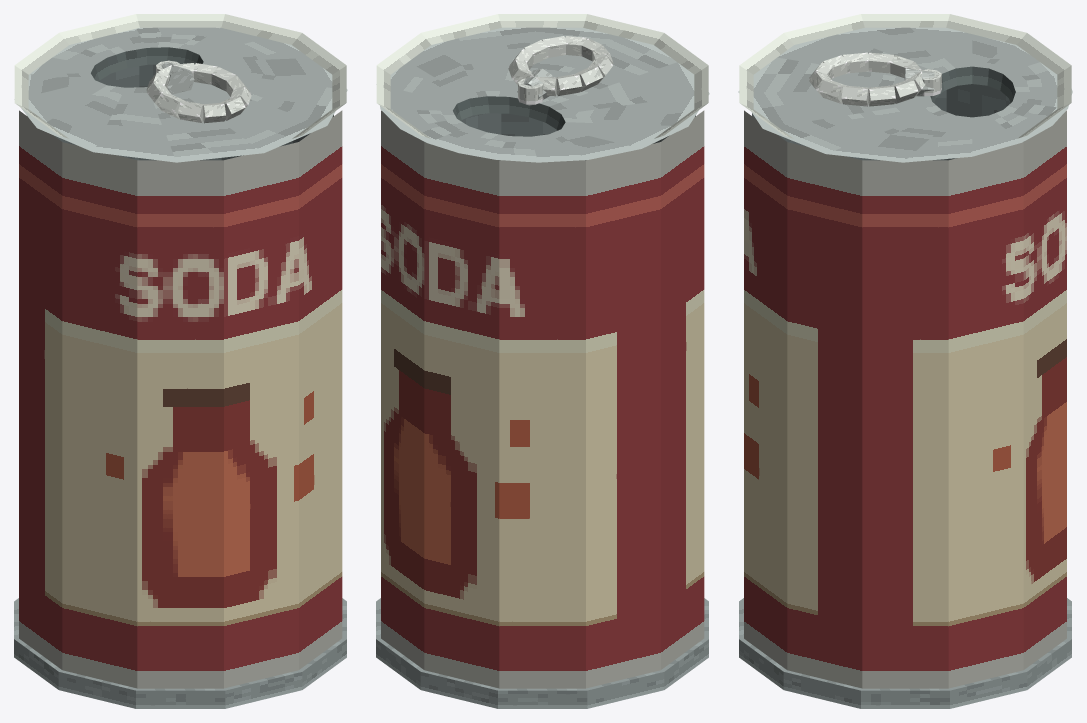
The model's file is can_drink.glb.
The picture shows the model from 3 angles, left to right: view 1: azimuth 30°, elevation 25°; view 2: azimuth 150°, elevation 25°; view 3: azimuth 270°, elevation 25°; orthographic projection.
Visible parts, largest first — view 1: block_illustrated wraparound can label, block_open drink lid with actual aperture, block_rolled steel base, block_rolled open rim, block_shadowed drinking aperture rim, block_uncovered empty can interior, block_pull tab hinge; view 2: block_illustrated wraparound can label, block_open drink lid with actual aperture, block_rolled steel base, block_rolled open rim, block_shadowed drinking aperture rim, block_uncovered empty can interior; view 3: block_illustrated wraparound can label, block_open drink lid with actual aperture, block_rolled steel base, block_rolled open rim, block_uncovered empty can interior, block_shadowed drinking aperture rim, block_raised metal pull ring 11, block_raised metal pull ring 0.
Boxes of the visible parts, bbox=[...] form: block_illustrated wraparound can label: bbox=[19, 110, 342, 688]; block_open drink lid with actual aperture: bbox=[14, 27, 347, 162]; block_rolled steel base: bbox=[14, 598, 346, 708]; block_rolled open rim: bbox=[14, 14, 346, 138]; block_shadowed drinking aperture rim: bbox=[91, 47, 203, 81]; block_uncovered empty can interior: bbox=[53, 64, 333, 160]; block_pull tab hinge: bbox=[161, 62, 194, 94]; block_illustrated wraparound can label: bbox=[381, 110, 704, 688]; block_open drink lid with actual aperture: bbox=[376, 27, 709, 162]; block_rolled steel base: bbox=[376, 598, 708, 708]; block_rolled open rim: bbox=[376, 14, 708, 138]; block_shadowed drinking aperture rim: bbox=[453, 96, 565, 130]; block_uncovered empty can interior: bbox=[424, 113, 695, 160]; block_illustrated wraparound can label: bbox=[744, 110, 1066, 688]; block_open drink lid with actual aperture: bbox=[738, 27, 1072, 162]; block_rolled steel base: bbox=[739, 598, 1071, 708]; block_rolled open rim: bbox=[739, 14, 1071, 138]; block_uncovered empty can interior: bbox=[752, 84, 1010, 160]; block_shadowed drinking aperture rim: bbox=[930, 66, 1015, 102]; block_raised metal pull ring 11: bbox=[868, 85, 895, 106]; block_raised metal pull ring 0: bbox=[841, 85, 868, 106].
Bounding box in the file's own units: 0.066 × 0.1241 × 0.066.
Materials: 1 (1 with a texture image).
